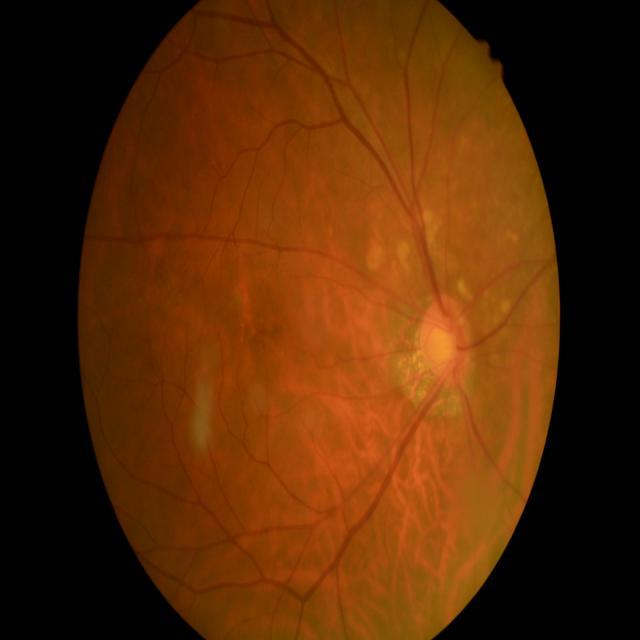cup: (428, 324, 459, 370)
disk: (418, 296, 472, 384)
